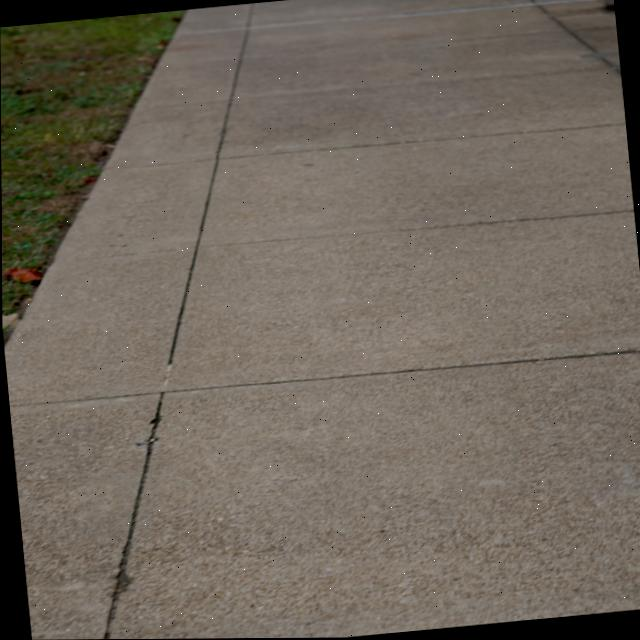Sidewalk: (4, 0, 640, 640)
